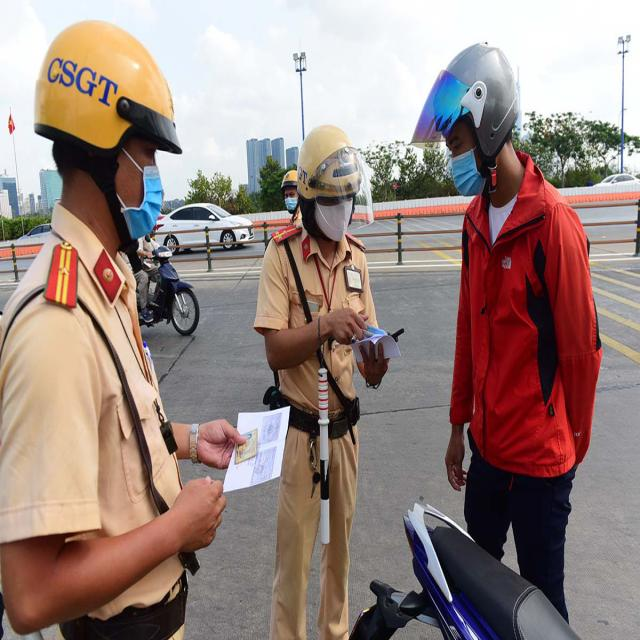1-2-helmet: (34, 20, 182, 156)
3-4-helmet: (410, 42, 519, 164)
